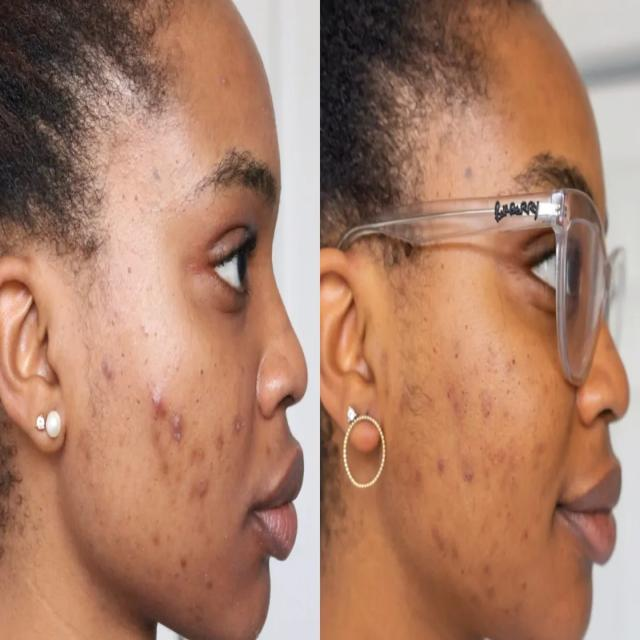Acne: (427, 511, 466, 572), (175, 548, 219, 596), (462, 451, 502, 500), (75, 425, 105, 479), (192, 459, 222, 513), (167, 392, 190, 461), (96, 354, 128, 402), (472, 372, 497, 430), (514, 508, 548, 549), (396, 439, 421, 494), (527, 436, 558, 480), (472, 560, 502, 603), (145, 370, 170, 421), (140, 526, 172, 561), (215, 66, 242, 103), (225, 410, 257, 440), (436, 447, 457, 486), (259, 447, 286, 473), (425, 341, 447, 367)
